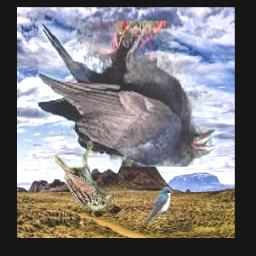Crow: (38, 21, 219, 167)
Sparrow: (55, 141, 113, 211)
Swallow: (145, 187, 173, 224)
